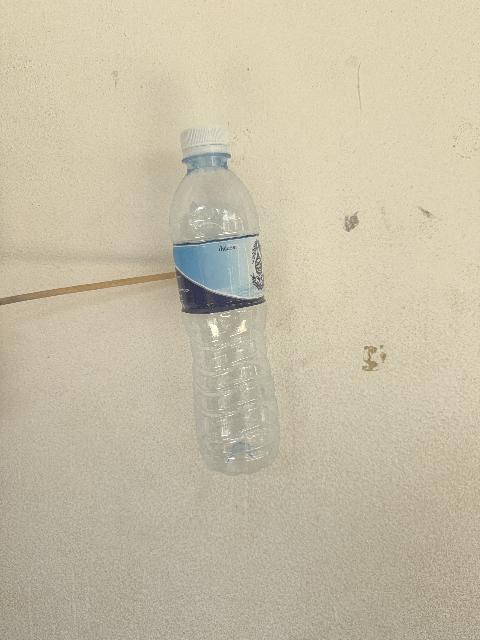bottle: (170, 127, 279, 474)
